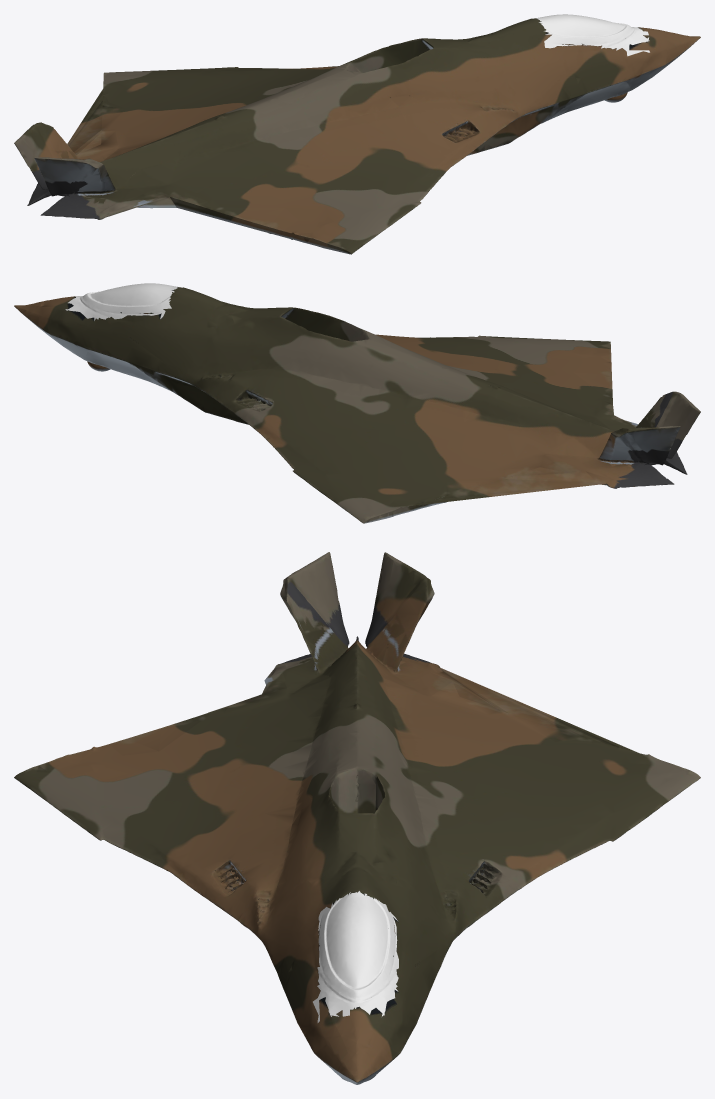
Rendered from fh_battle_fighter_t4.glb.
3 views of the same model, one above another, from view 1: azimuth 30°, elevation 25°; view 2: azimuth 150°, elevation 25°; view 3: azimuth 270°, elevation 25° (orthographic). The views are drawn at different scales.
Visible parts, largest first — view 1: fh_battle_fighter_t4; view 2: fh_battle_fighter_t4; view 3: fh_battle_fighter_t4.
Part boxes in pixels (<box>): fh_battle_fighter_t4: <box>14,14,700,254</box>; fh_battle_fighter_t4: <box>14,283,700,523</box>; fh_battle_fighter_t4: <box>14,552,700,1084</box>.
Size of the model in its own units: 1 by 0.1454 by 0.6334.
Materials: 2 (1 with a texture image).
